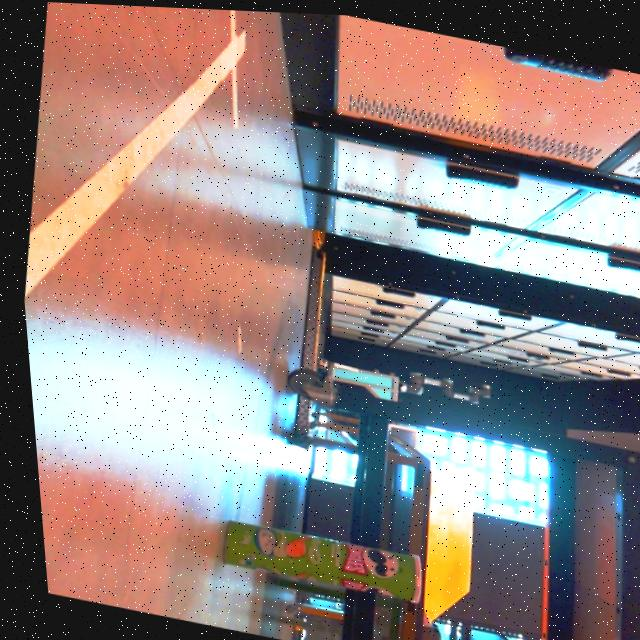greenpringles: (189, 495, 440, 628)
